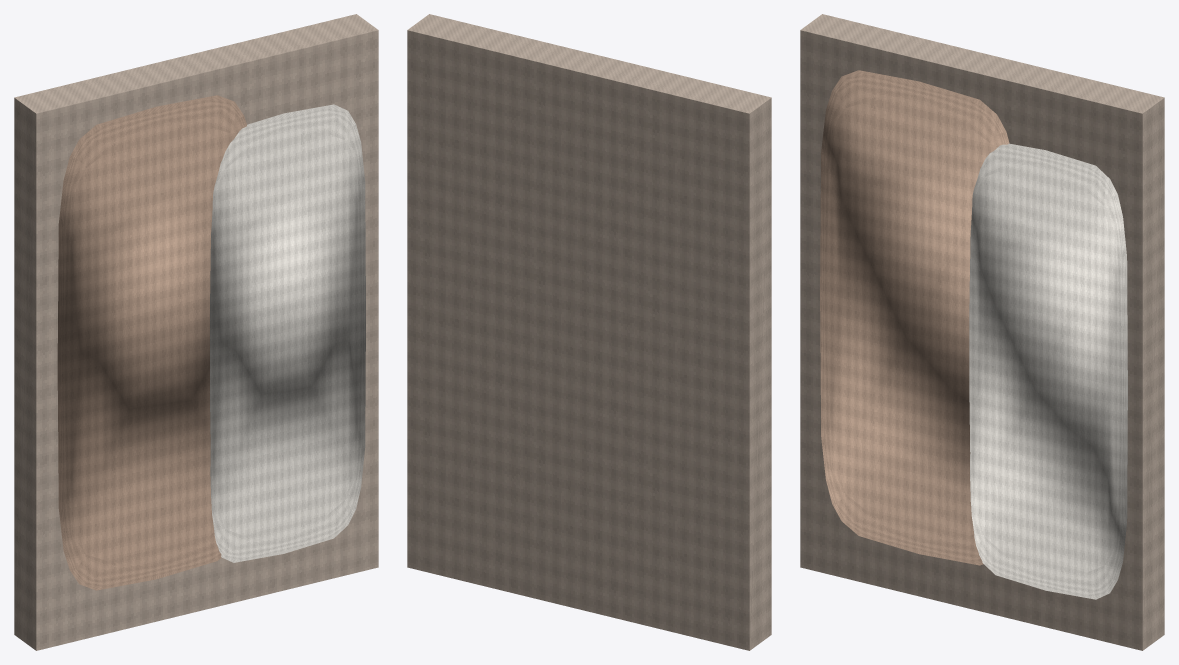
3 views of the same model, side by side, from view 1: azimuth 30°, elevation 25°; view 2: azimuth 150°, elevation 25°; view 3: azimuth 330°, elevation 25° (orthographic).
Parts seen in each view (by area): view 1: 2 taupe_abstract_layer, 1 canvas_base, 3 ivory_abstract_layer; view 2: 1 canvas_base; view 3: 2 taupe_abstract_layer, 1 canvas_base, 3 ivory_abstract_layer.
Boxes of the visible parts, x1,y1,x2,y2 form: 2 taupe_abstract_layer: (57,95,246,590); 1 canvas_base: (14,14,378,650); 3 ivory_abstract_layer: (210,104,365,562); 1 canvas_base: (407,14,771,650); 2 taupe_abstract_layer: (820,70,1009,565); 1 canvas_base: (800,14,1164,650); 3 ivory_abstract_layer: (969,143,1127,599).
Bounding box in the file's own units: 0.667 × 1 × 0.083.
Materials: 3 (3 with a texture image).
